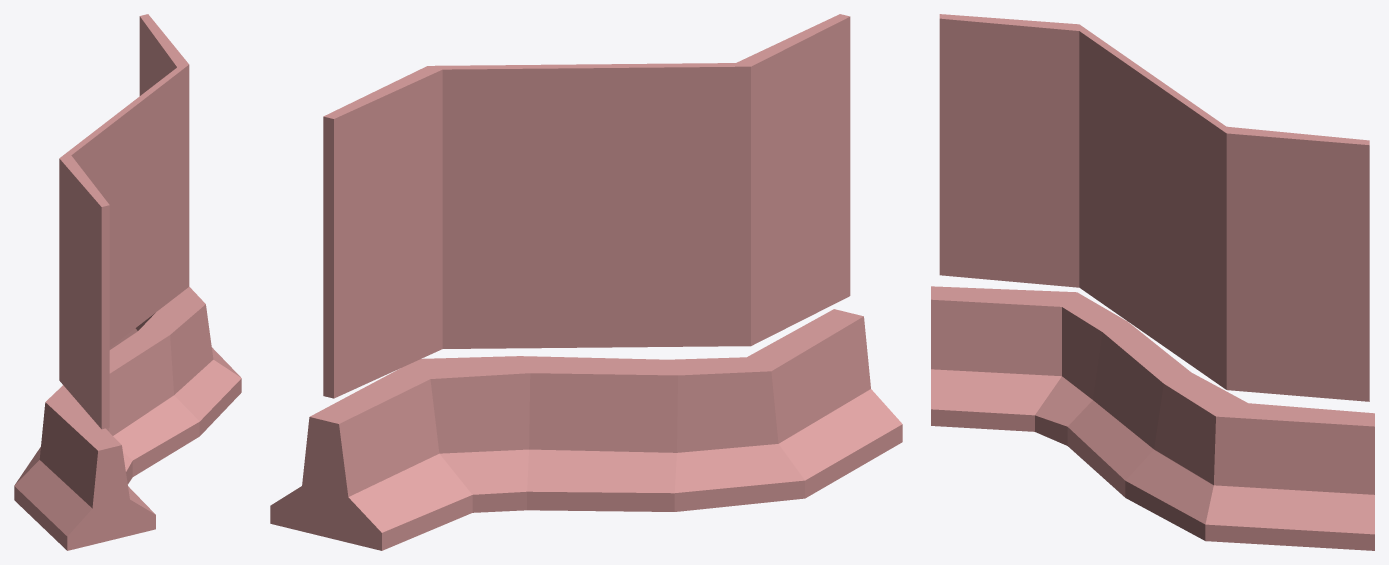
The model's file is Fence_A_E_COL.fbx.
3 views of the same model, side by side, from view 1: azimuth 30°, elevation 25°; view 2: azimuth 150°, elevation 25°; view 3: azimuth 270°, elevation 25° (orthographic). The views are drawn at different scales.
Visible parts, largest first — view 1: Fence_A_E_Wire_COL, Fence_A_E_COL; view 2: Fence_A_E_Wire_COL, Fence_A_E_COL; view 3: Fence_A_E_Wire_COL, Fence_A_E_COL.
Part boxes in pixels (bbox=[...]): Fence_A_E_Wire_COL: bbox=[59, 14, 189, 429]; Fence_A_E_COL: bbox=[14, 286, 241, 550]; Fence_A_E_Wire_COL: bbox=[323, 14, 850, 398]; Fence_A_E_COL: bbox=[270, 309, 902, 550]; Fence_A_E_Wire_COL: bbox=[939, 14, 1369, 401]; Fence_A_E_COL: bbox=[931, 286, 1374, 550].
Size of the model in its own units: 280 by 286 by 300.
